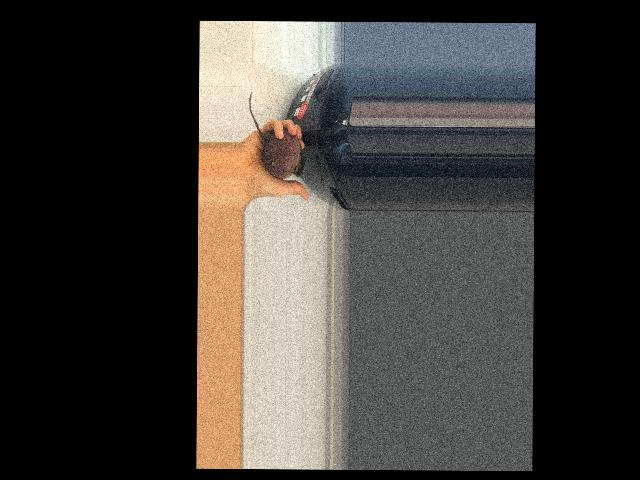beet: (248, 91, 305, 178)
